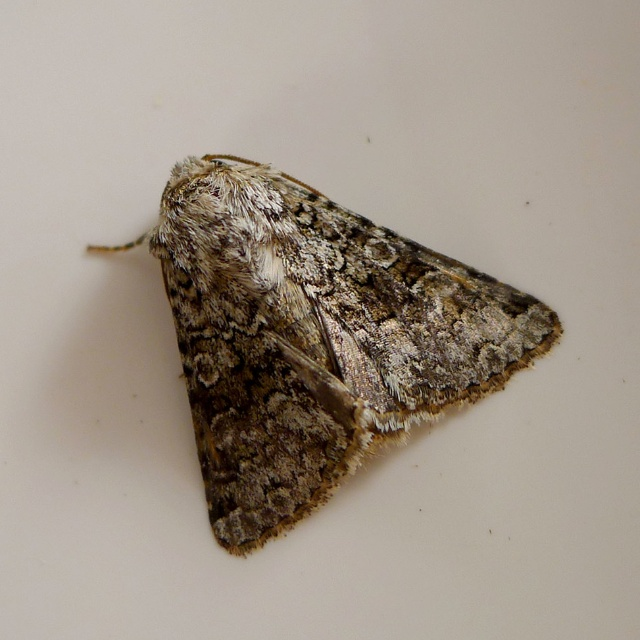Moths and butterflies: (89, 151, 569, 563)
